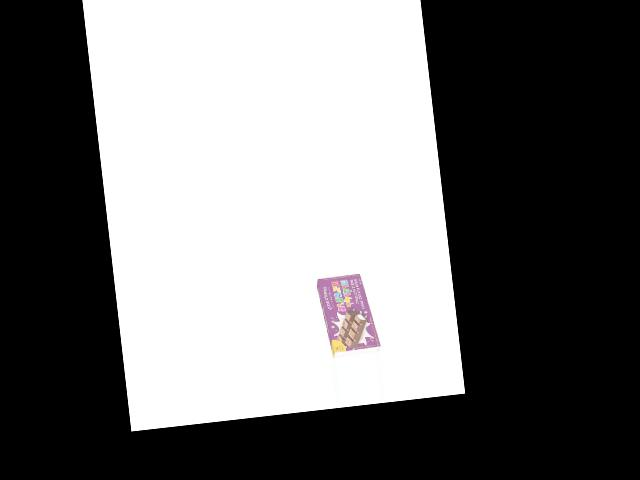chocolate: (315, 267, 377, 359)
